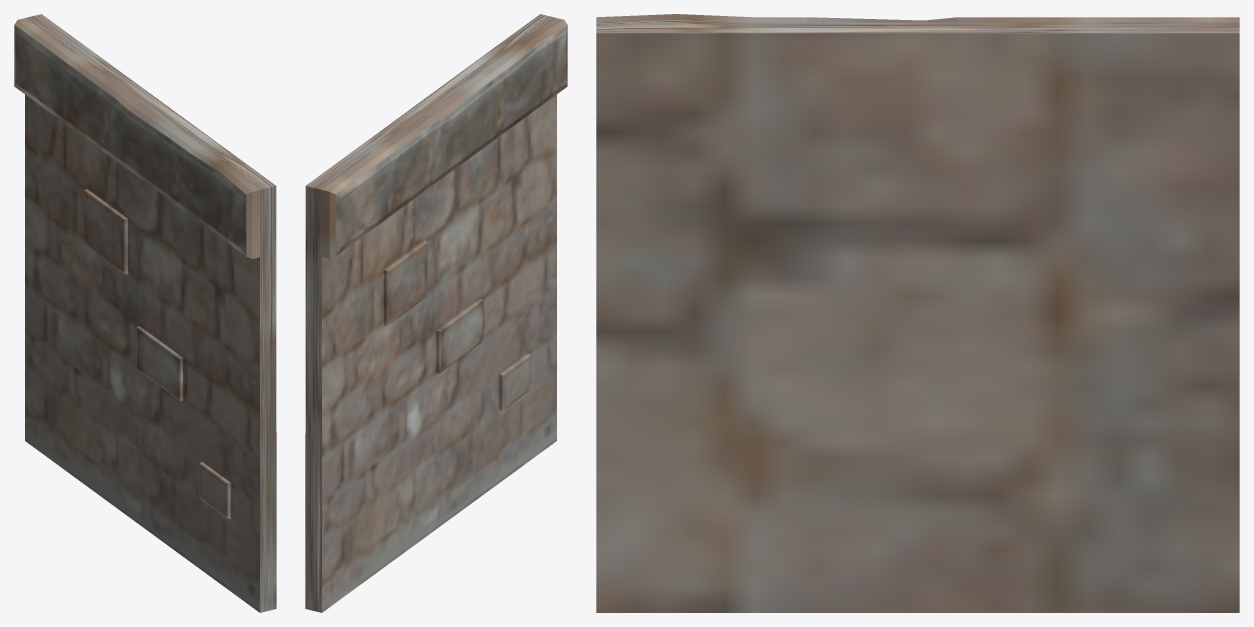
File: walltest.glb
3 views of the same model, side by side, from view 1: azimuth 30°, elevation 25°; view 2: azimuth 150°, elevation 25°; view 3: azimuth 270°, elevation 25° (orthographic). The views are drawn at different scales.
Parts seen in each view (by area): view 1: pared; view 2: pared; view 3: pared.
Part boxes in pixels (<box>): pared: <box>14,14,276,612</box>; pared: <box>305,14,567,612</box>; pared: <box>596,14,1239,612</box>.
Size of the model in its own units: 0.3 by 4 by 4.
Materials: 1 (1 with a texture image).
